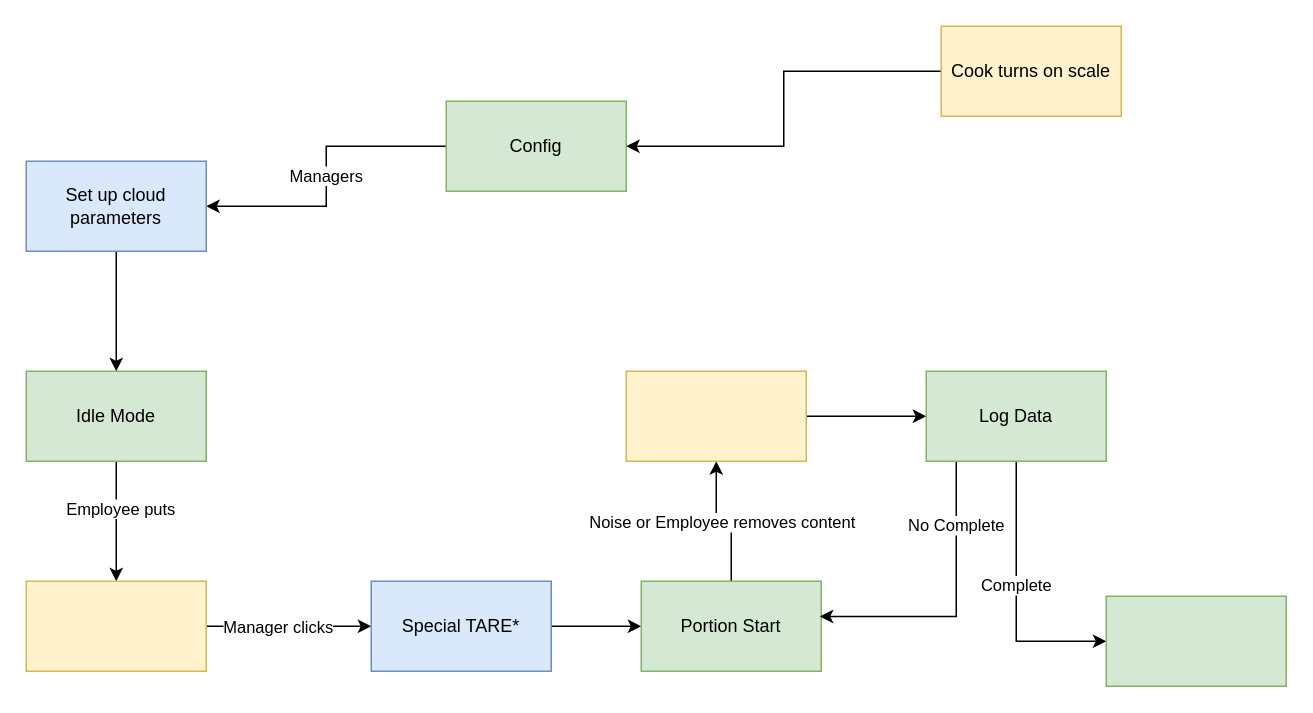
This 1313x713 diagram has some shape labels left out. The shapes that lost their labels are listed below. From the top down, each one's centre as x and y in pixels, then its label:
At point (715, 415): "Weight Change".
At point (115, 625): "Food Pan On".
At point (1195, 640): "Portion End".
